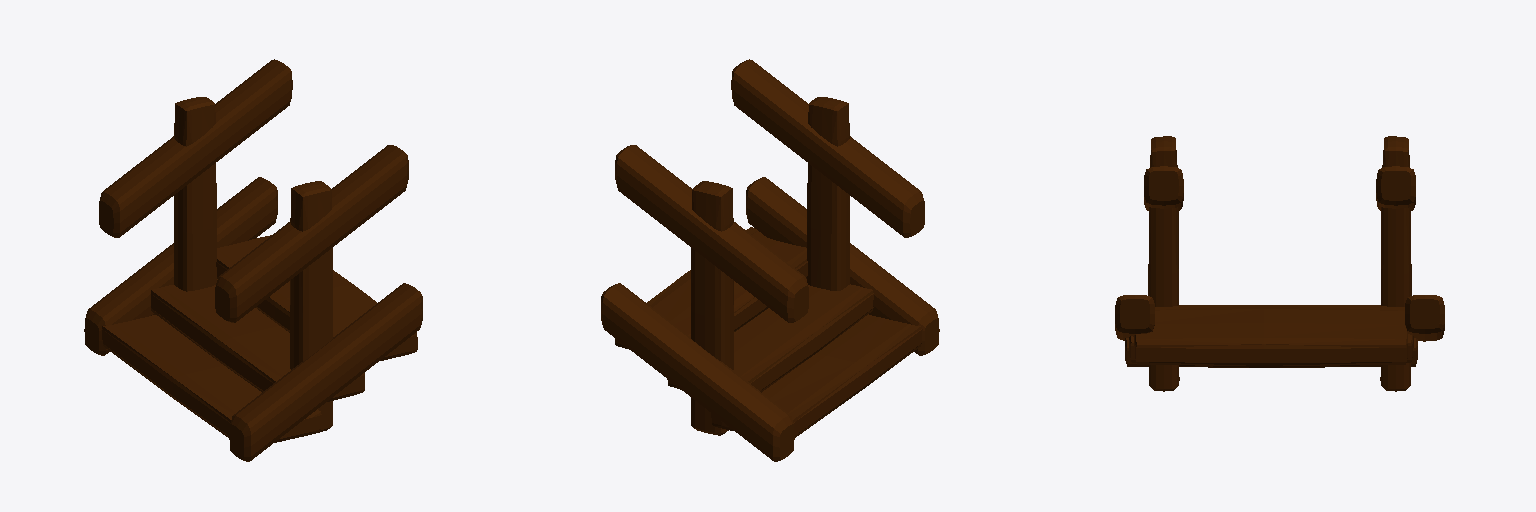
Rendered from Stairs_Small.obj.
The picture shows the model from 3 angles: view 1: azimuth 30°, elevation 25°; view 2: azimuth 150°, elevation 25°; view 3: azimuth 270°, elevation 25°; orthographic projection.
Parts seen in each view (by area): view 1: Stairs_Small_Cube.309; view 2: Stairs_Small_Cube.309; view 3: Stairs_Small_Cube.309.
Boxes of the visible parts, box(x1,y1,x2,y2) form: Stairs_Small_Cube.309: box(84, 59, 422, 461); Stairs_Small_Cube.309: box(601, 59, 939, 461); Stairs_Small_Cube.309: box(1115, 136, 1444, 391).
Bounding box in the file's own units: 1.64 × 2.23 × 2.56.